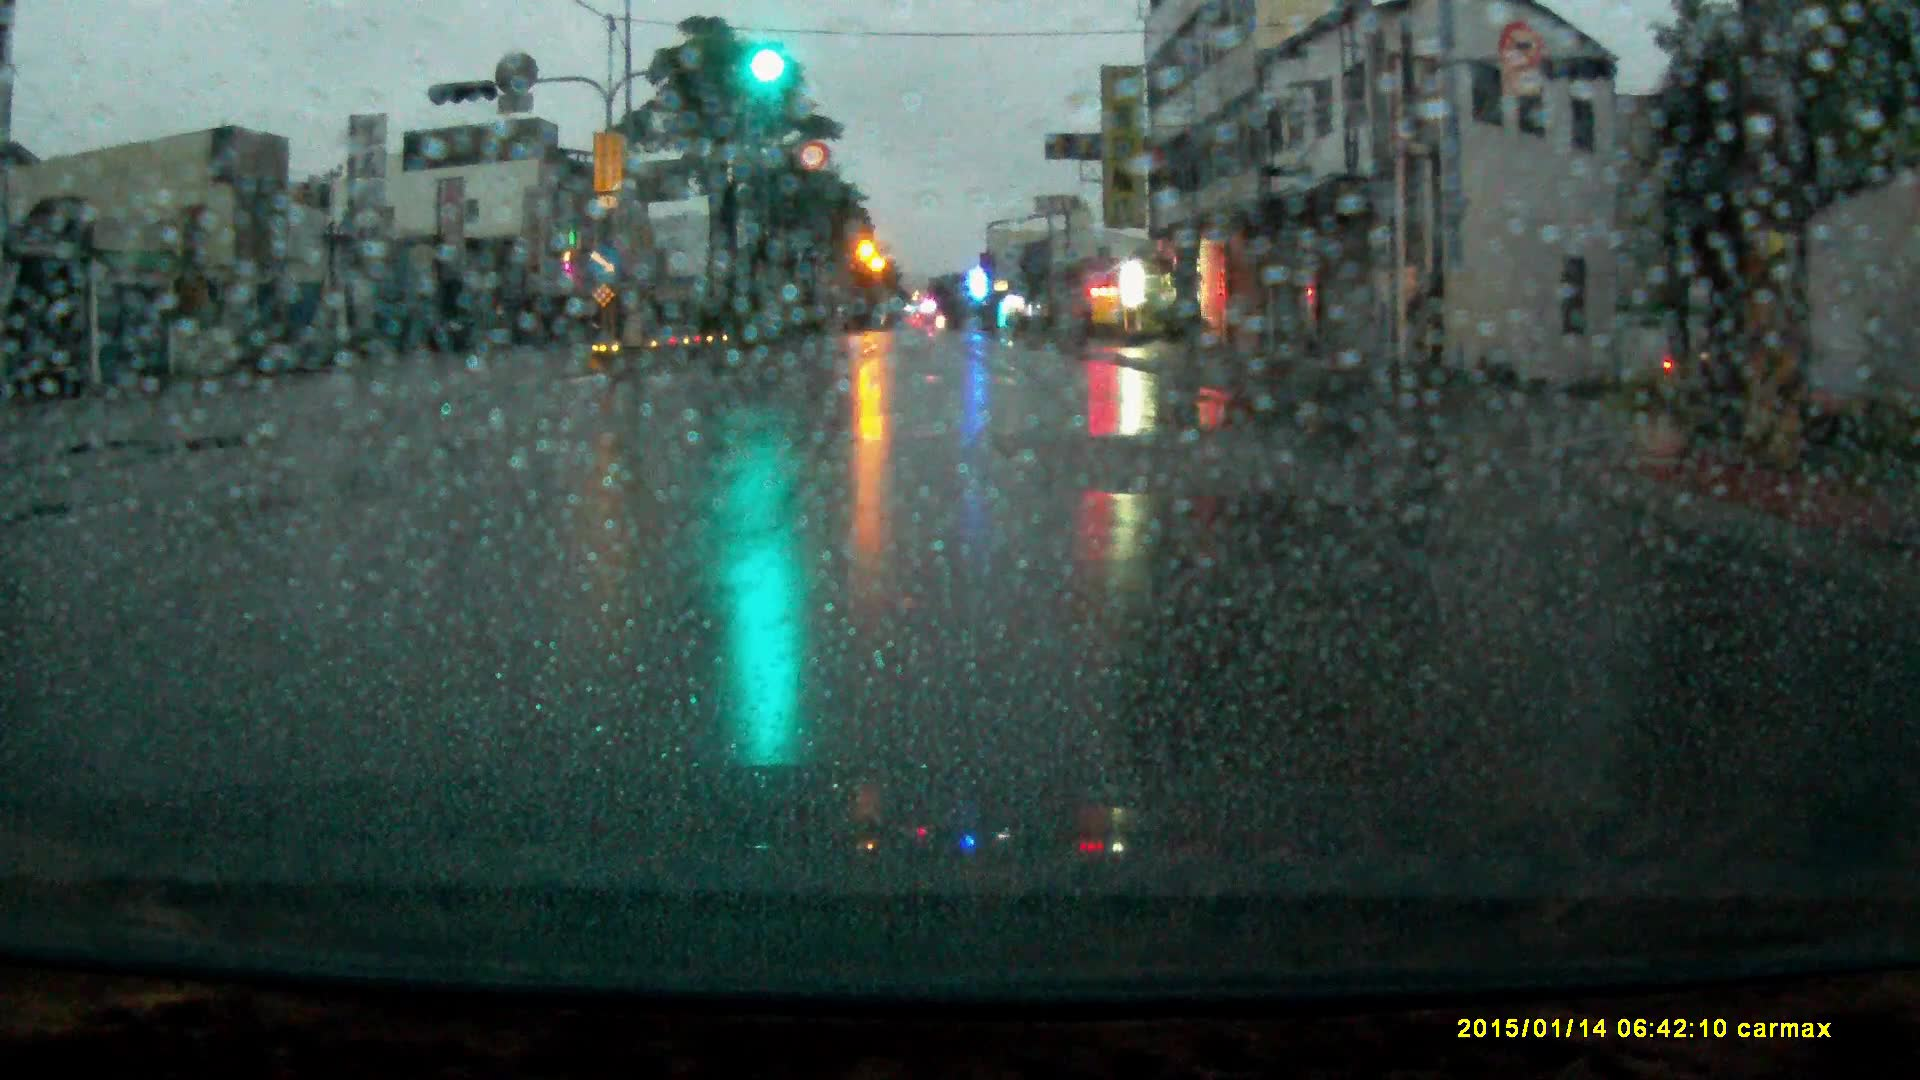rider: (1657, 300, 1719, 412)
